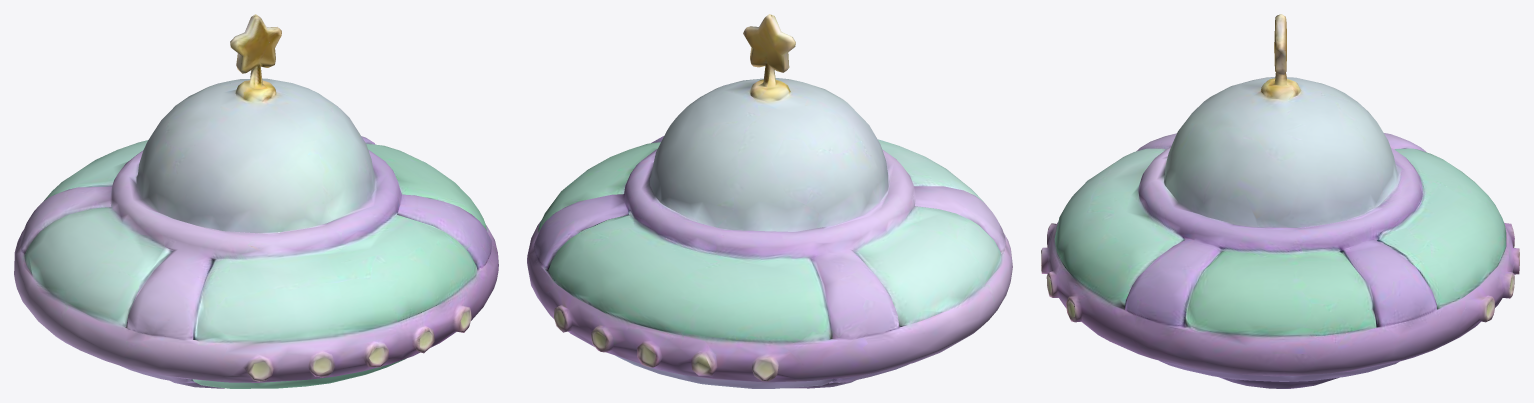
Rendered from ufo.glb.
The picture shows the model from 3 angles, left to right: view 1: azimuth 30°, elevation 25°; view 2: azimuth 150°, elevation 25°; view 3: azimuth 270°, elevation 25°; orthographic projection. The views are drawn at different scales.
Visible parts, largest first — view 1: tripo_node_510ac9a1-1370-4e7a-b543-3e308001c3af; view 2: tripo_node_510ac9a1-1370-4e7a-b543-3e308001c3af; view 3: tripo_node_510ac9a1-1370-4e7a-b543-3e308001c3af.
Boxes of the visible parts, bbox=[...] form: tripo_node_510ac9a1-1370-4e7a-b543-3e308001c3af: bbox=[14, 14, 498, 388]; tripo_node_510ac9a1-1370-4e7a-b543-3e308001c3af: bbox=[527, 14, 1012, 388]; tripo_node_510ac9a1-1370-4e7a-b543-3e308001c3af: bbox=[1041, 14, 1519, 388].
Bounding box in the file's own units: 0.995 × 0.7549 × 0.9995.
1 material, 1 textured.
